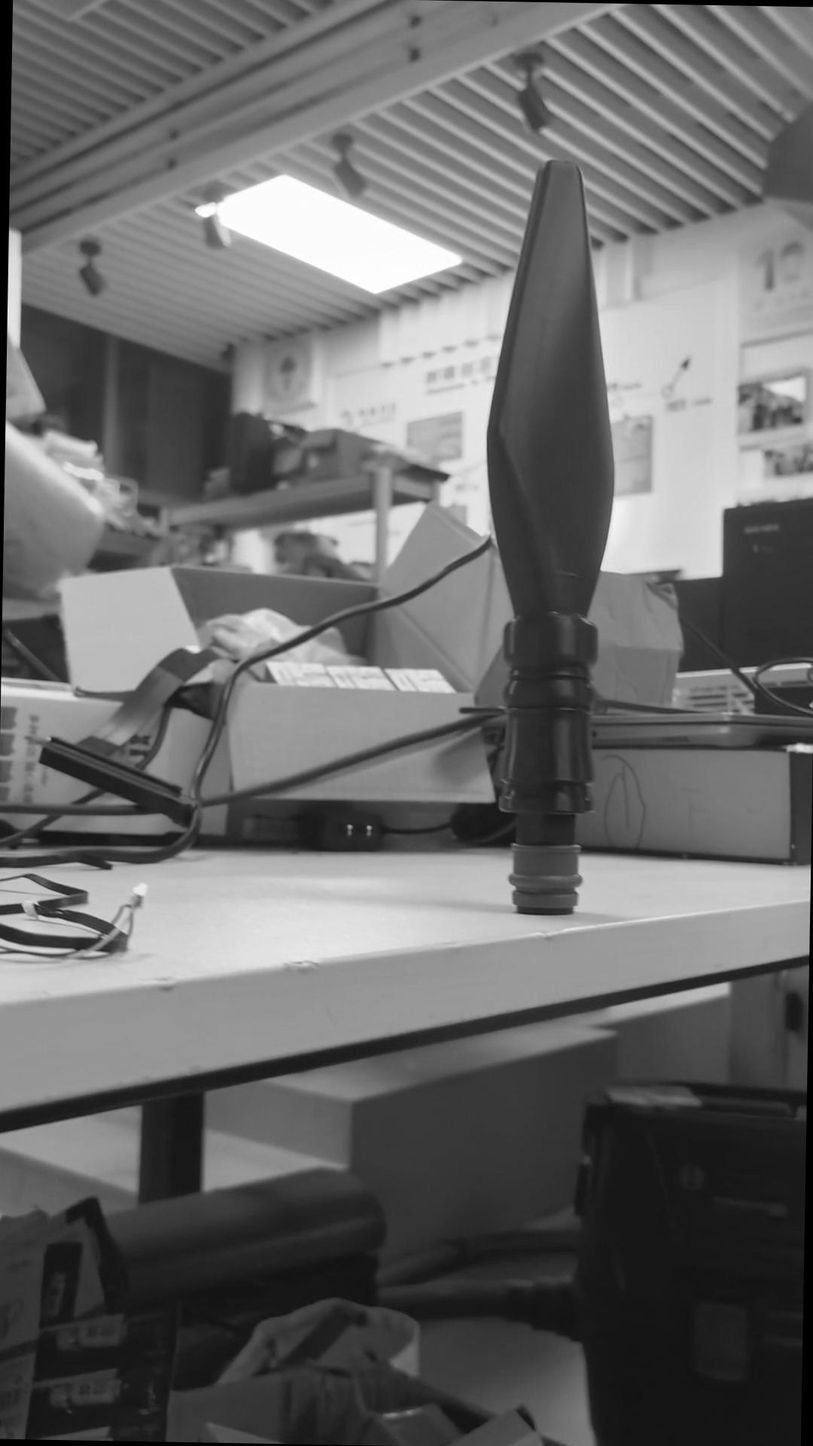base: (509, 828, 583, 913)
